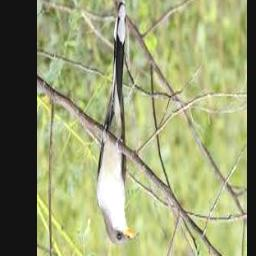Cuckoo: (96, 3, 139, 244)
